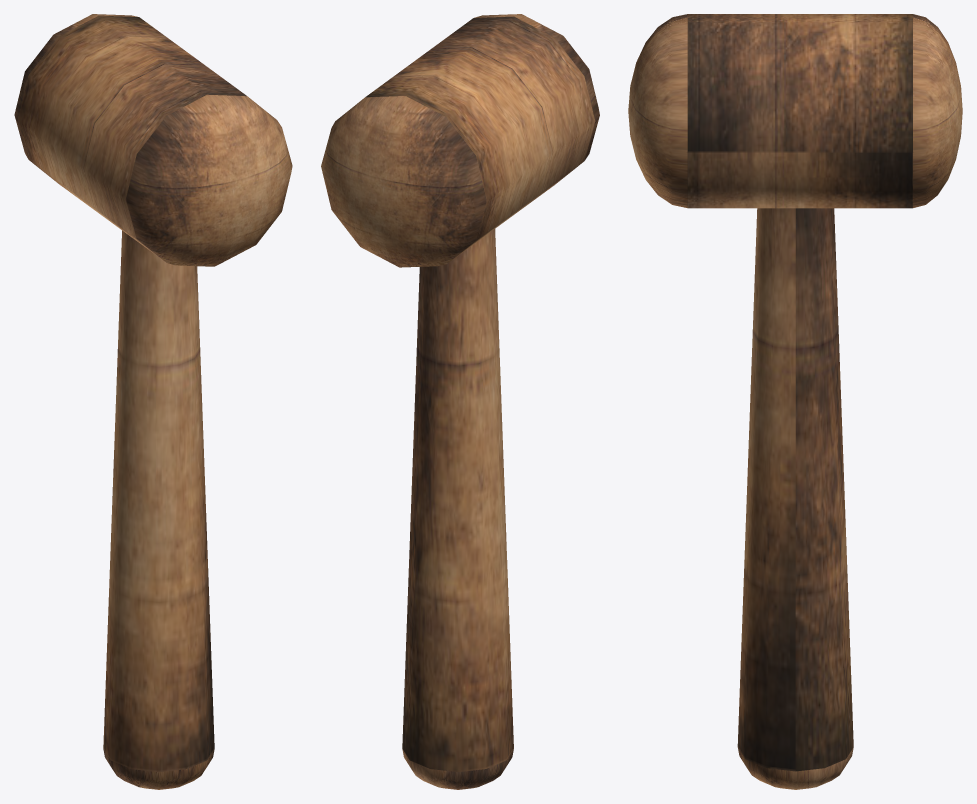
Rendered from new_pemukul_demung_saron.FBX.
3 views of the same model, side by side, from view 1: azimuth 30°, elevation 25°; view 2: azimuth 150°, elevation 25°; view 3: azimuth 270°, elevation 25° (orthographic). The views are drawn at different scales.
Visible parts, largest first — view 1: pelogDemungPemukul; view 2: pelogDemungPemukul; view 3: pelogDemungPemukul.
Part boxes in pixels (x1,y1,x2,y2): pelogDemungPemukul: (14, 14, 292, 789); pelogDemungPemukul: (321, 14, 599, 789); pelogDemungPemukul: (628, 14, 962, 789).
Bounding box in the file's own units: 2.65 × 11.37 × 4.55.
